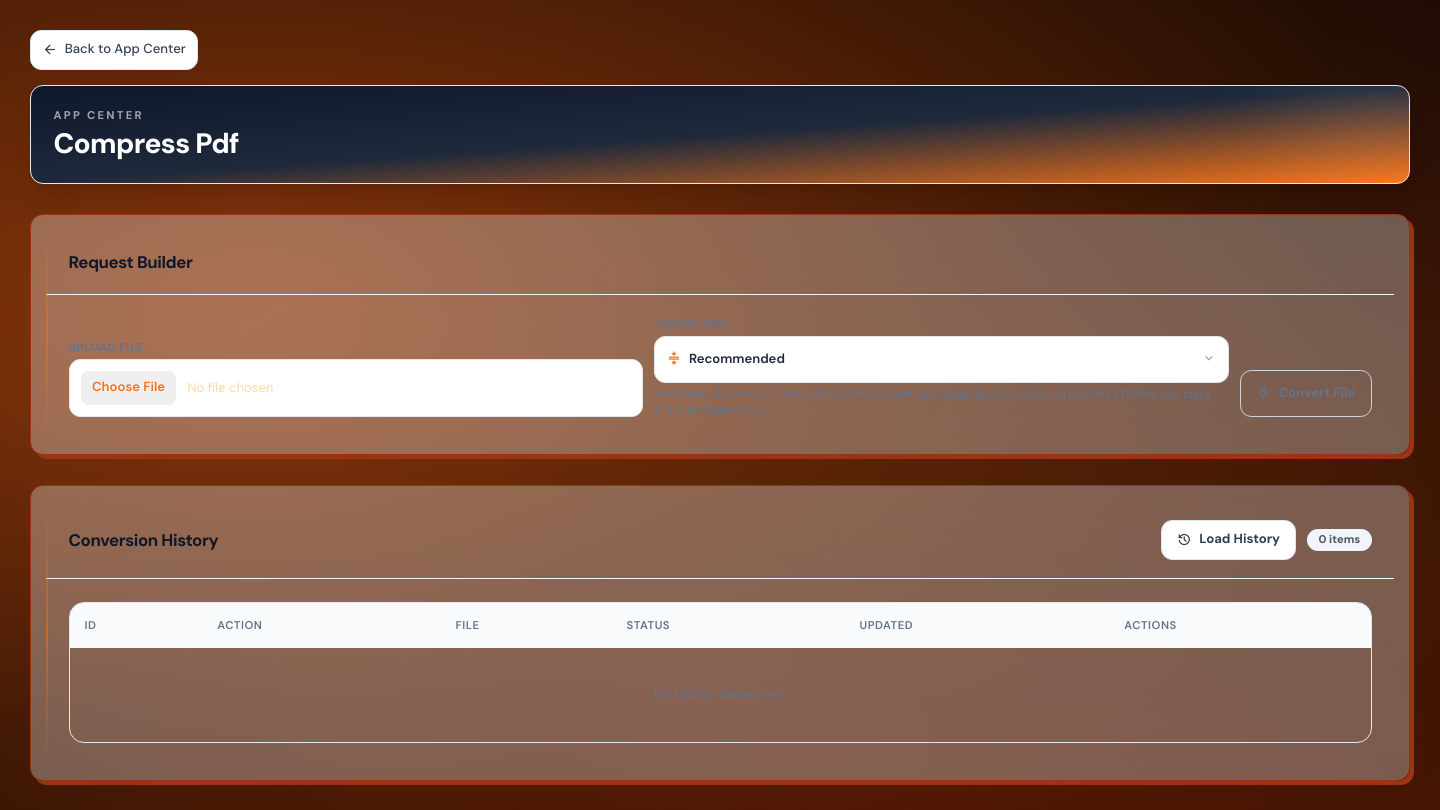
user App Center Compress PDF target size › closes the flyout on an outside click
The image size is (1440, 810).
Click the button with aria-label "Target size:" at (737, 359), box [654,336,1229,383]
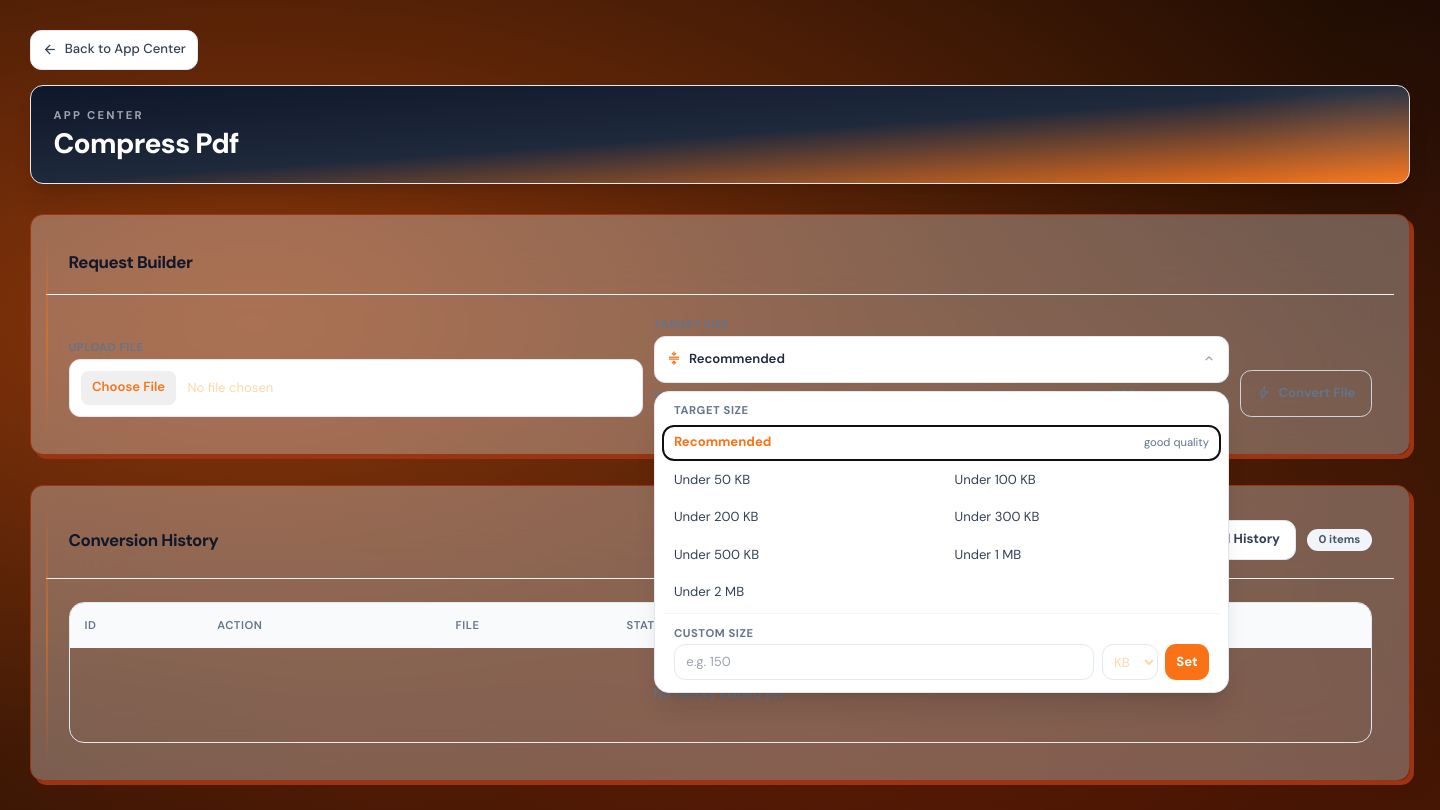
Press the mouse on the element that starts with "Back to App Center" at (720, 406), box [0,0,1439,809]
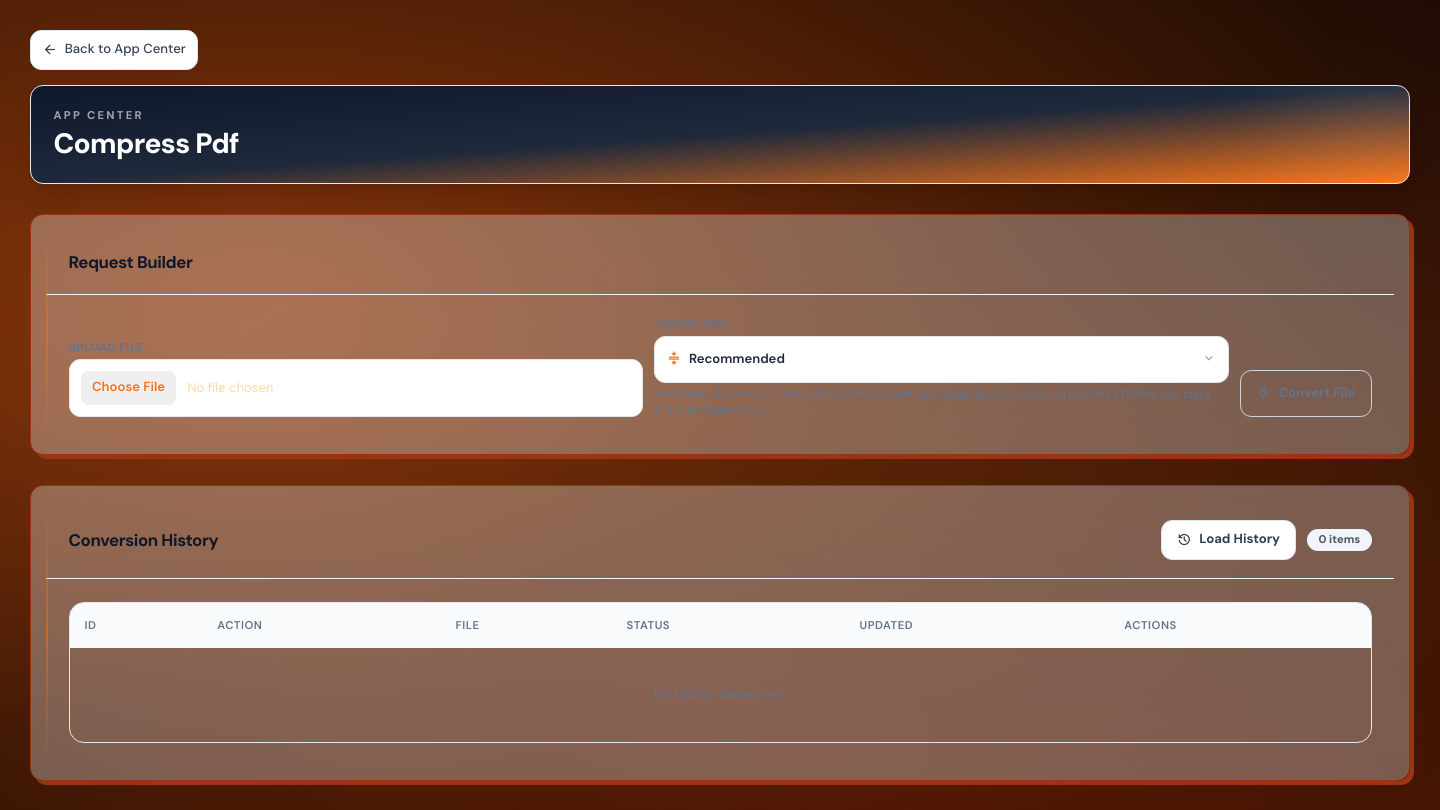
Check: the dialog is gone
